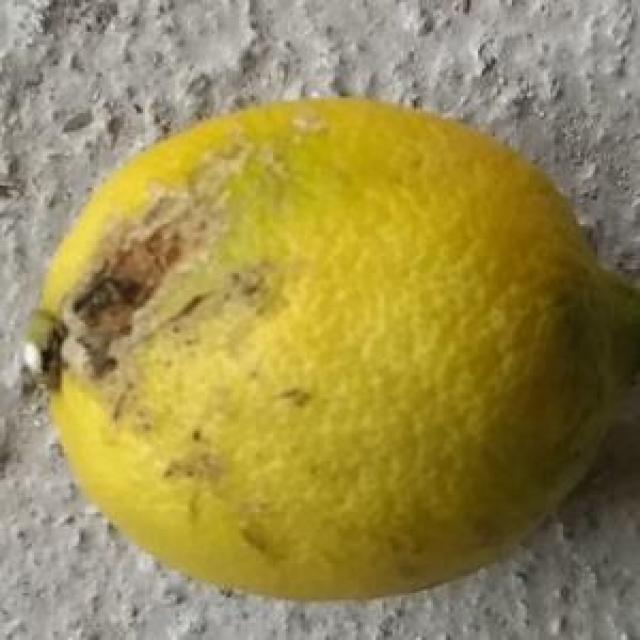lemon: (36, 98, 640, 603)
